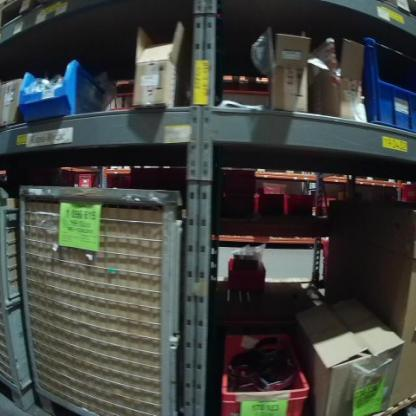small_load_carrier: (218, 322, 308, 414), (353, 36, 415, 132)
stillage: (14, 169, 183, 416), (1, 202, 37, 409)
